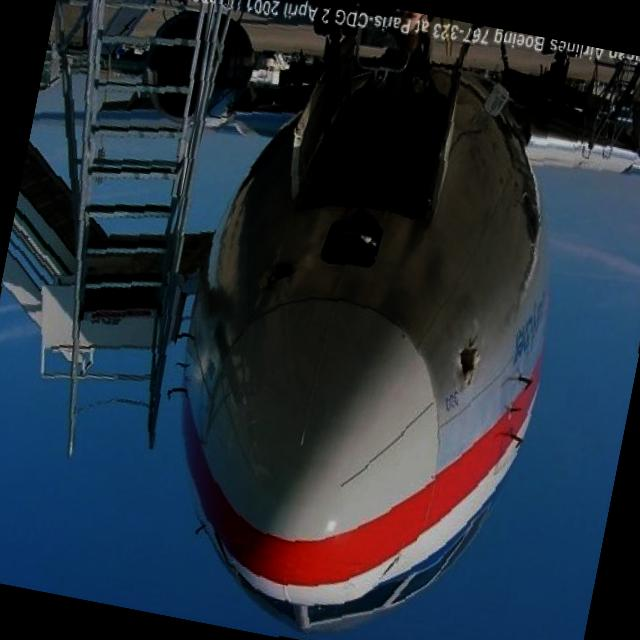dent: (435, 322, 491, 388), (252, 252, 294, 296)
